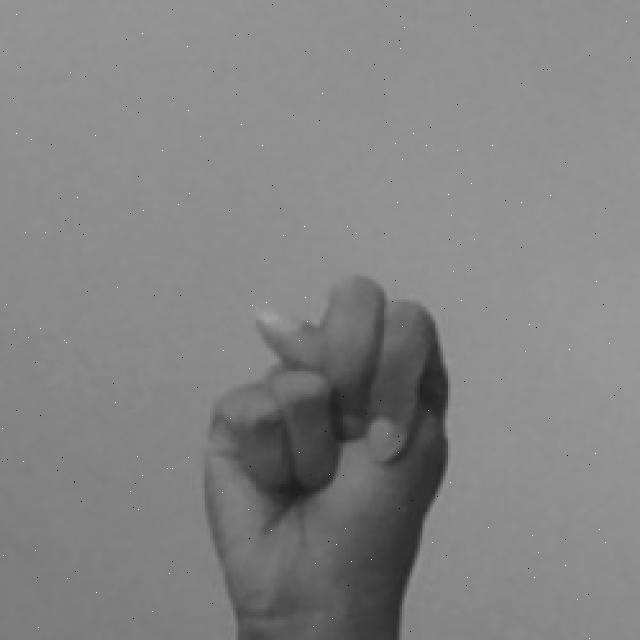N: (192, 269, 448, 640)
